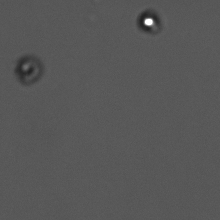Dead Cell: (16, 54, 45, 87)
Living Cell: (136, 7, 163, 33)
